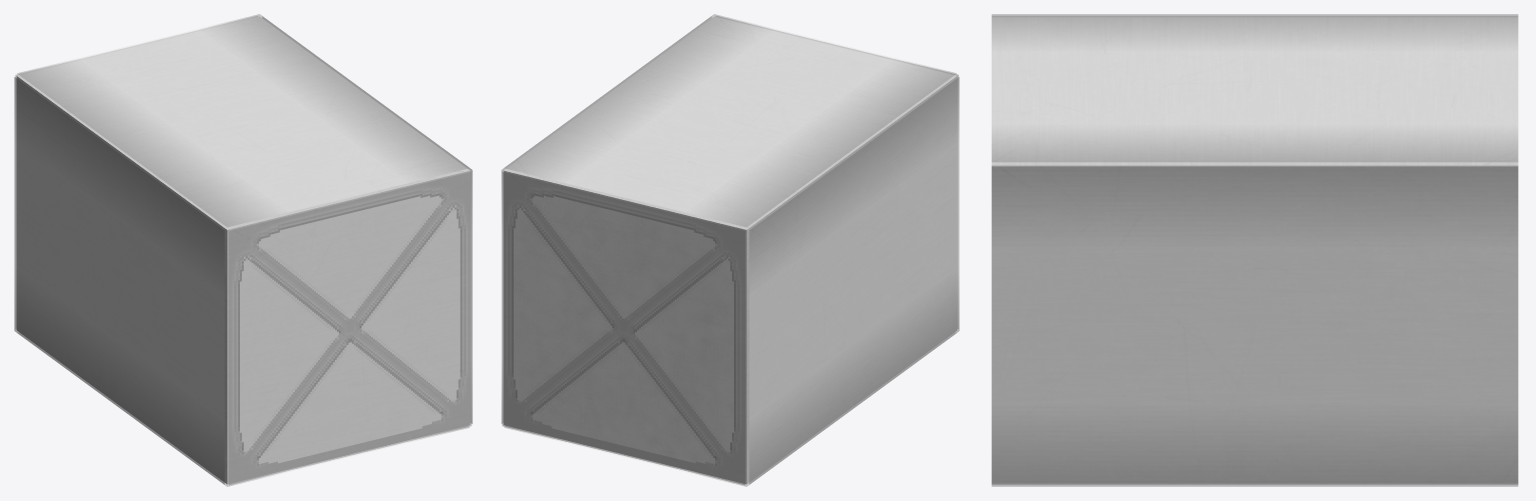
The model's file is motor.obj.
The picture shows the model from 3 angles, left to right: view 1: azimuth 30°, elevation 25°; view 2: azimuth 150°, elevation 25°; view 3: azimuth 270°, elevation 25°; orthographic projection. The views are drawn at different scales.
Parts seen in each view (by area): view 1: Motor1, Motor2, Motor5, Motor3, Motor4, Motor6, Motor7; view 2: Motor1, Motor7, Motor5, Motor3, Motor4, Motor6, Motor2; view 3: Motor1, Motor4, Motor3, Motor6.
Part boxes in pixels (bbox=[...]): Motor1: bbox=[16, 16, 470, 484]; Motor2: bbox=[228, 172, 471, 485]; Motor5: bbox=[14, 77, 224, 484]; Motor3: bbox=[17, 14, 469, 227]; Motor4: bbox=[262, 17, 472, 423]; Motor6: bbox=[18, 332, 469, 486]; Motor7: bbox=[15, 16, 257, 328]; Motor1: bbox=[503, 16, 957, 484]; Motor7: bbox=[502, 172, 745, 485]; Motor5: bbox=[749, 77, 959, 484]; Motor3: bbox=[504, 14, 956, 227]; Motor4: bbox=[501, 17, 711, 423]; Motor6: bbox=[504, 332, 955, 486]; Motor2: bbox=[716, 16, 958, 328]; Motor1: bbox=[991, 17, 1518, 483]; Motor4: bbox=[991, 167, 1518, 485]; Motor3: bbox=[991, 14, 1518, 162]; Motor6: bbox=[991, 484, 1518, 486].
Size of the model in its own units: 2.04 by 2.04 by 3.04.
5 materials, 5 textured.
